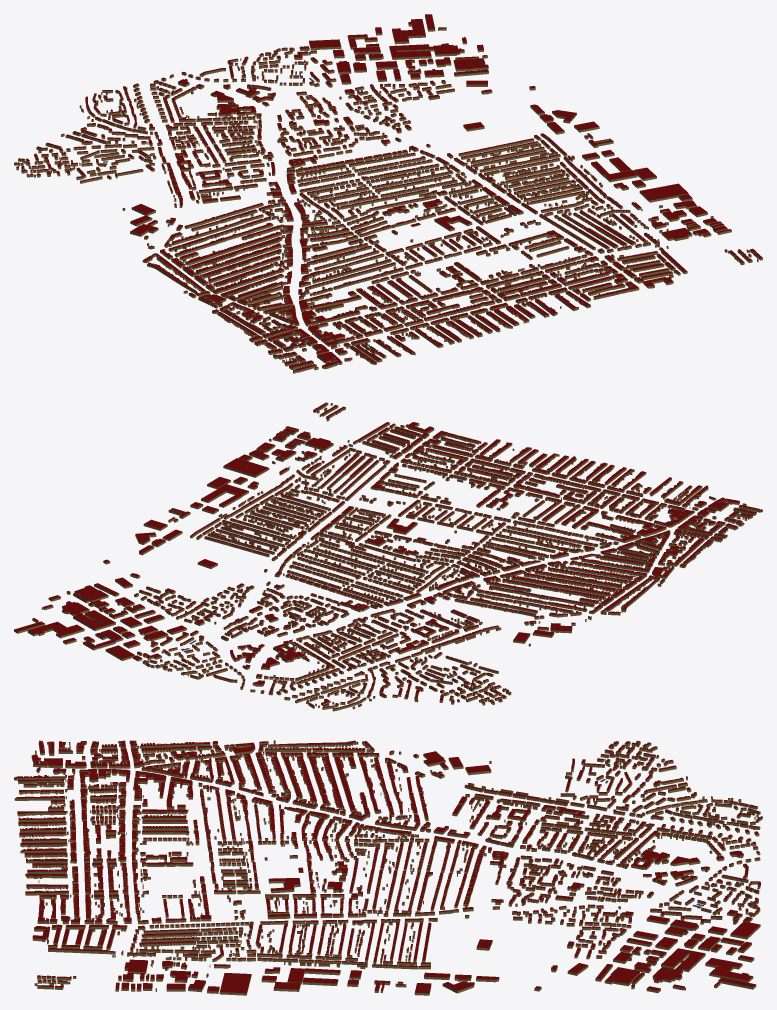
3 renders of one model, top to bottom at view 1: azimuth 30°, elevation 25°; view 2: azimuth 150°, elevation 25°; view 3: azimuth 270°, elevation 25°, orthographic. The views are drawn at different scales.
Visible parts, largest first — view 1: no part large enough to name; view 2: no part large enough to name; view 3: Building Formaplex, Building2, Building1630.
Part boxes in pixels (x1=…): Building Formaplex: x1=219, y1=973, x2=251, y2=995; Building2: x1=631, y1=849, x2=669, y2=869; Building1630: x1=604, y1=967, x2=639, y2=986.
Size of the model in its own units: 1720 by 7.5 by 2151.
